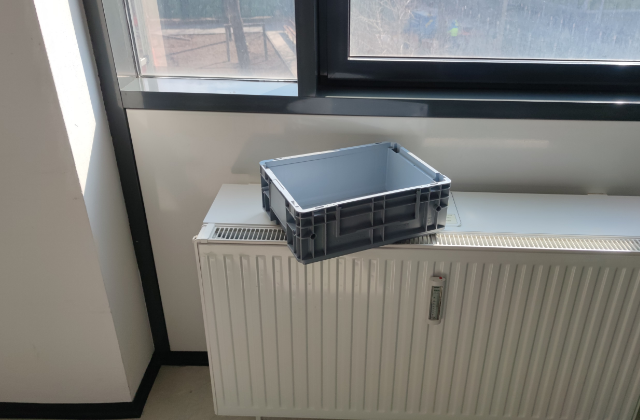Box: (258, 139, 451, 265)
